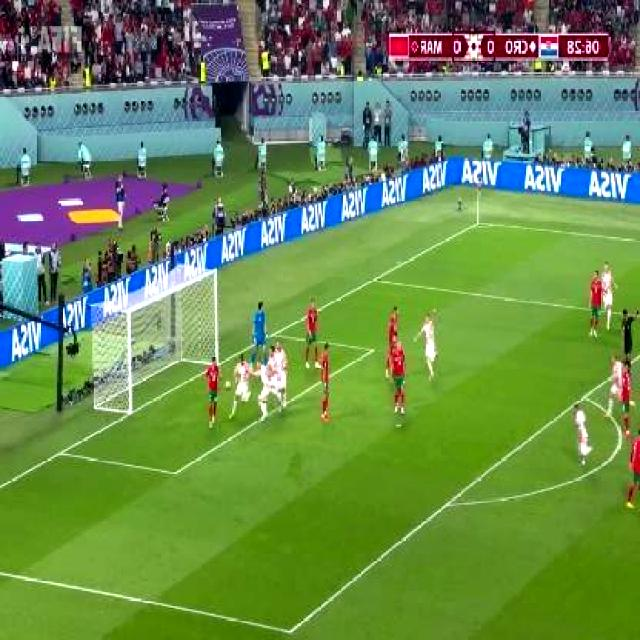bigarea_bottom_inner: (279, 612, 303, 640)
bigarea_top_outter: (366, 268, 383, 288)
bottom_arc_area_intersection: (438, 489, 458, 517)
corner: (469, 214, 489, 229)
smallarea_bottom_inner: (165, 455, 188, 488)
smallarea_bottom_outter: (52, 438, 72, 464)
smallarea_top_inner: (364, 338, 382, 360)
smallarea_top_outter: (266, 323, 282, 343)
top_arc_area_intersection: (578, 386, 594, 406)
